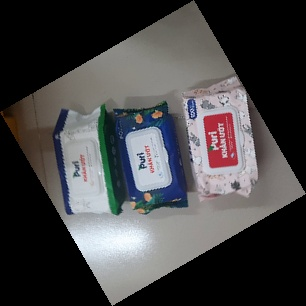Puri Trang: (54, 104, 124, 217)
Puri Xanh: (112, 102, 190, 211)
Puri hong: (178, 74, 261, 203)
